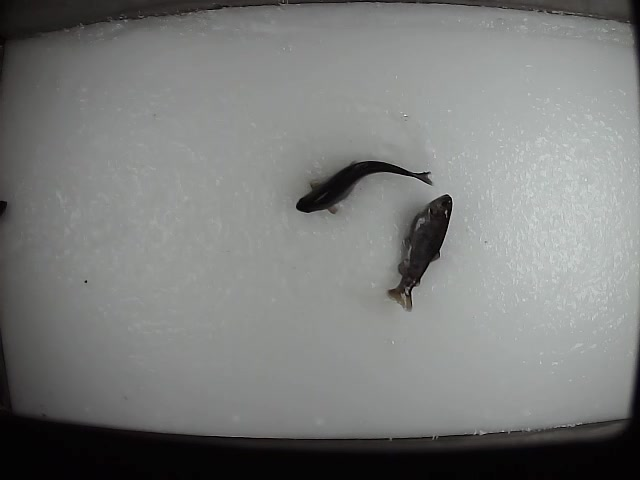Fish: (387, 193, 453, 312), (297, 161, 433, 213)
